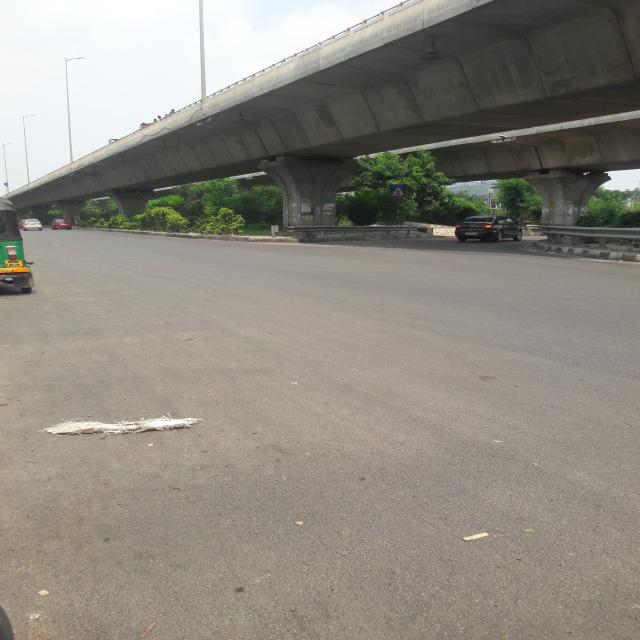PEDESTRIAN_CROSSING: (390, 184, 407, 198)
